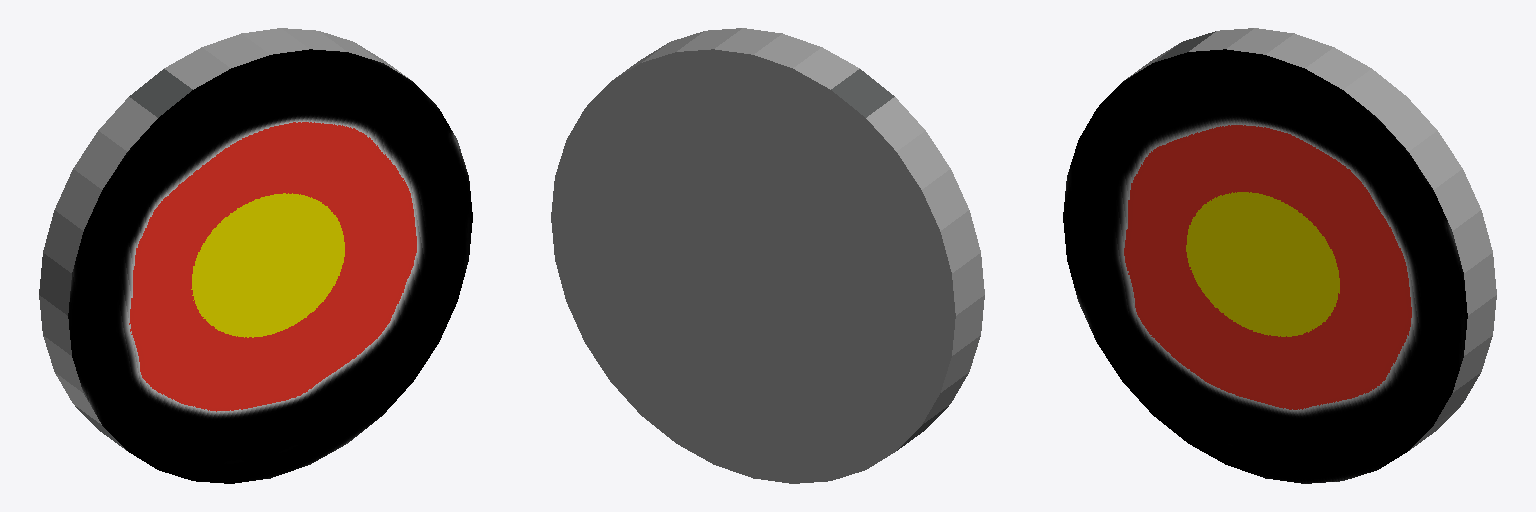
3 views of the same model, side by side, from view 1: azimuth 30°, elevation 25°; view 2: azimuth 150°, elevation 25°; view 3: azimuth 330°, elevation 25° (orthographic).
Parts seen in each view (by area): view 1: Cylinder; view 2: Cylinder; view 3: Cylinder.
Boxes of the visible parts, x1,y1,x2,y2 form: Cylinder: [39, 28, 472, 483]; Cylinder: [551, 28, 984, 483]; Cylinder: [1063, 28, 1496, 483].
Size of the model in its own units: 2 by 2 by 0.2497.
Materials: 2 (1 with a texture image).